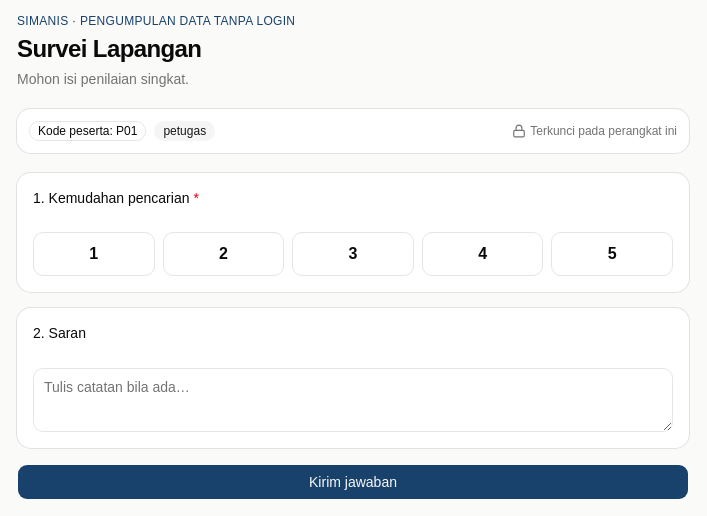
responden dapat mengisi formulir publik tanpa login dan melihat konfirmasi selesai
Expected: the heading "Survei Lapangan" is shown, top-left (17, 35), bottom-right (201, 62)
Expected: the text "Terkunci pada perangkat ini" is shown, top-left (512, 123), bottom-right (677, 139)
Click the button "5" at (612, 254), box top-left (551, 232), bottom-right (673, 276)
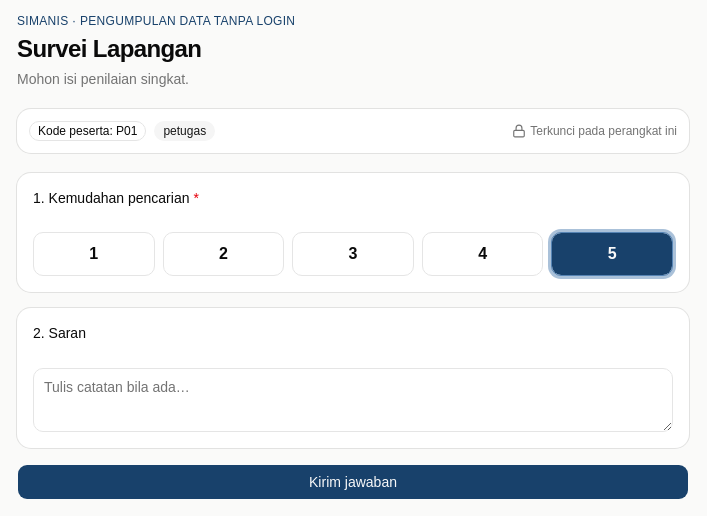
Type "Sudah cepat" into the text box with placeholder "Tulis catatan bila ada…" at (353, 400), box top-left (33, 368), bottom-right (673, 432)
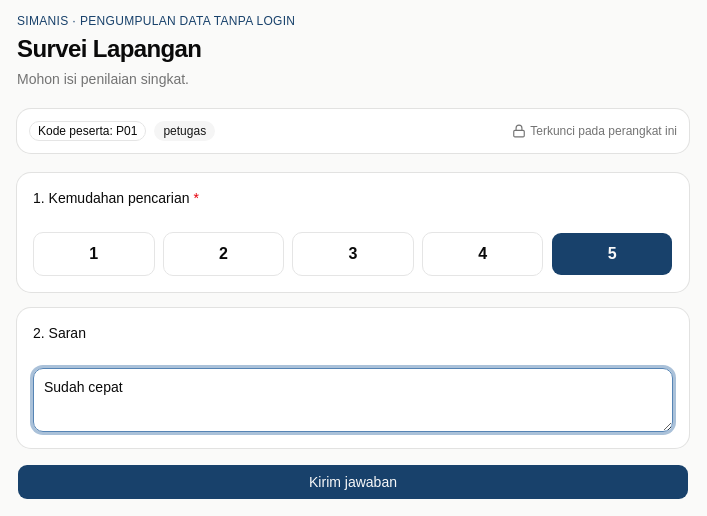
Click the button "Kirim jawaban" at (353, 482), box top-left (17, 464), bottom-right (689, 500)
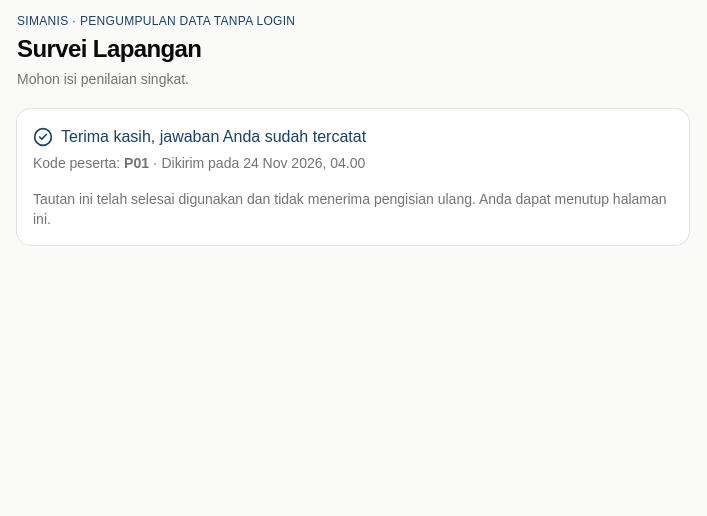
Expected: the text "Terima kasih, jawaban Anda sudah tercatat" is shown, top-left (33, 127), bottom-right (366, 147)
